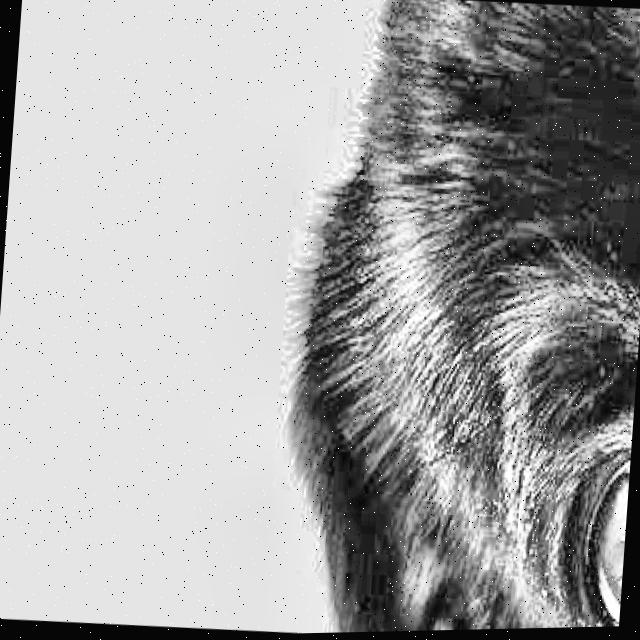dog: (230, 0, 640, 635)
